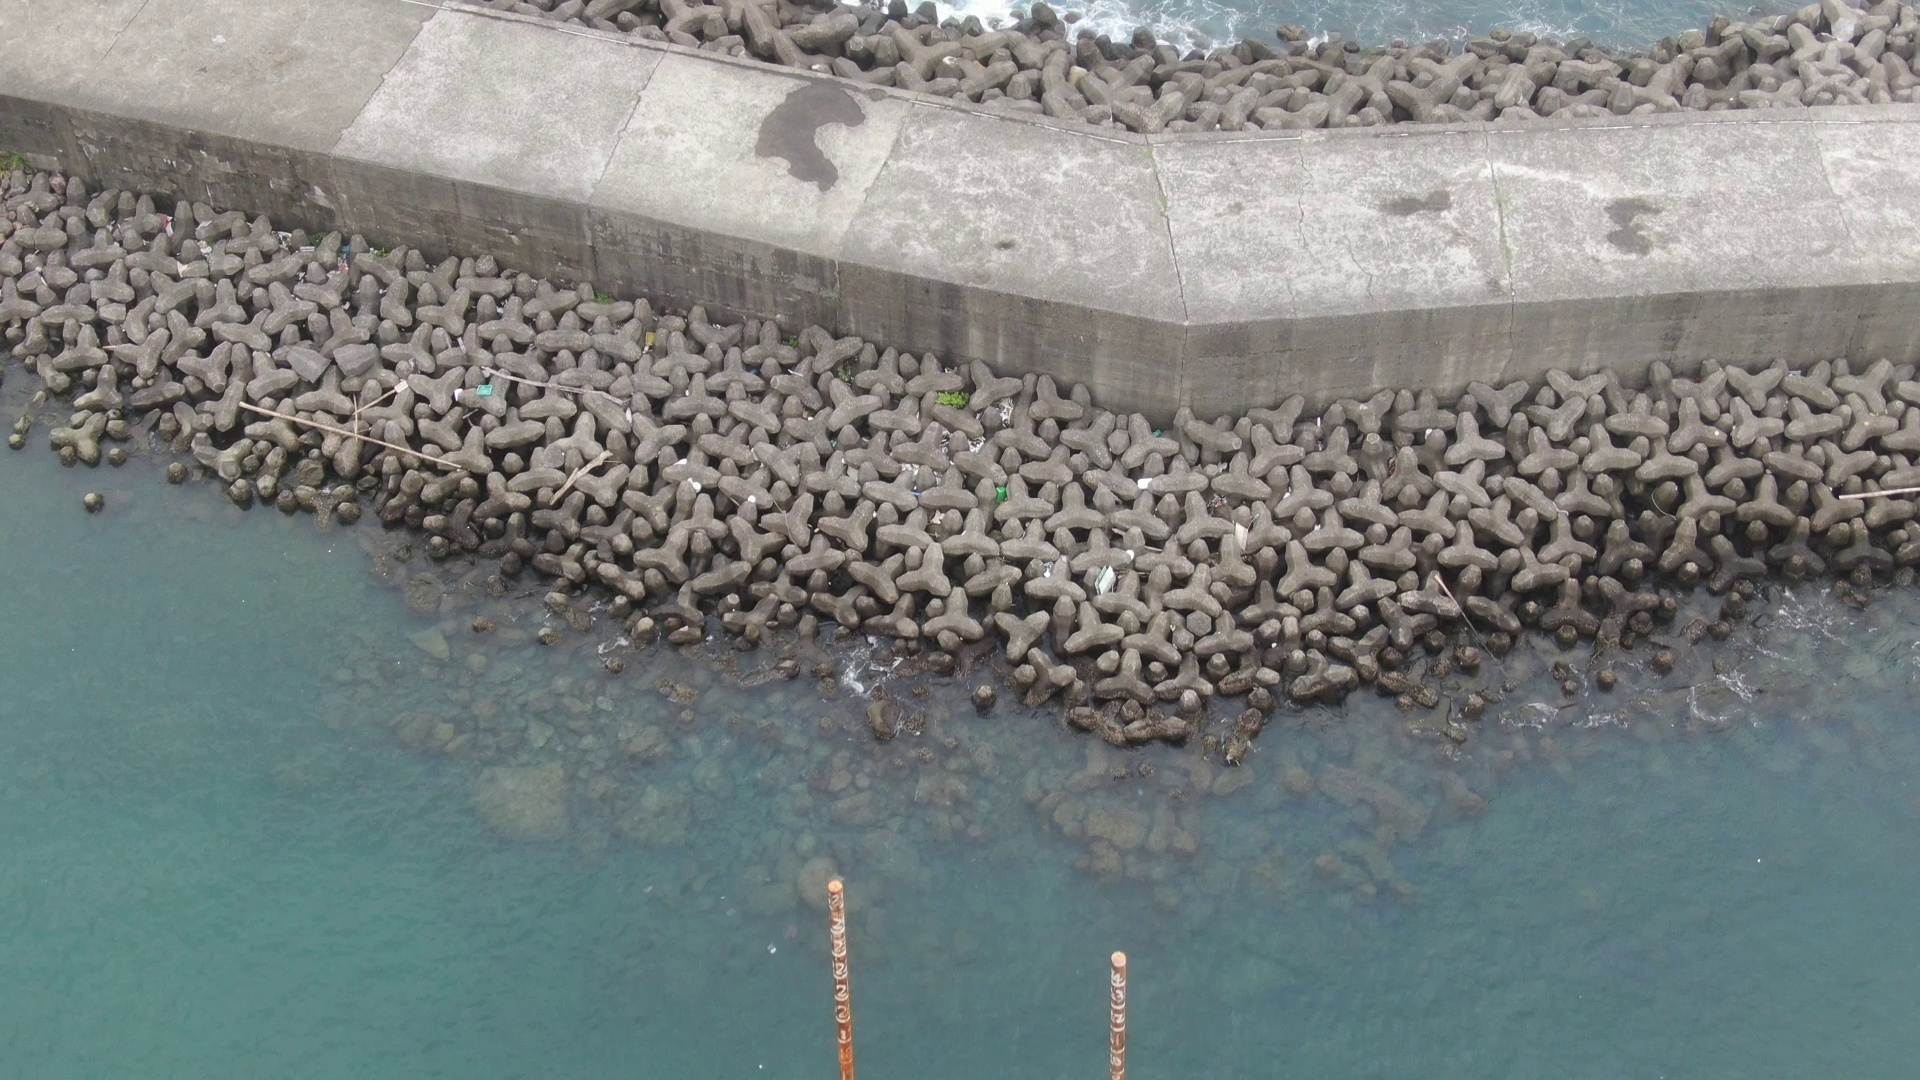garbage: (462, 367, 502, 415), (1085, 555, 1129, 597), (988, 479, 1015, 512)
